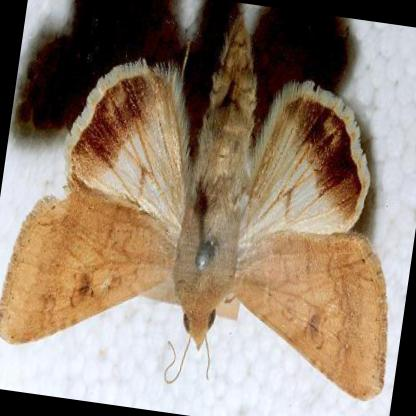helicoverpa: (0, 16, 386, 398)
